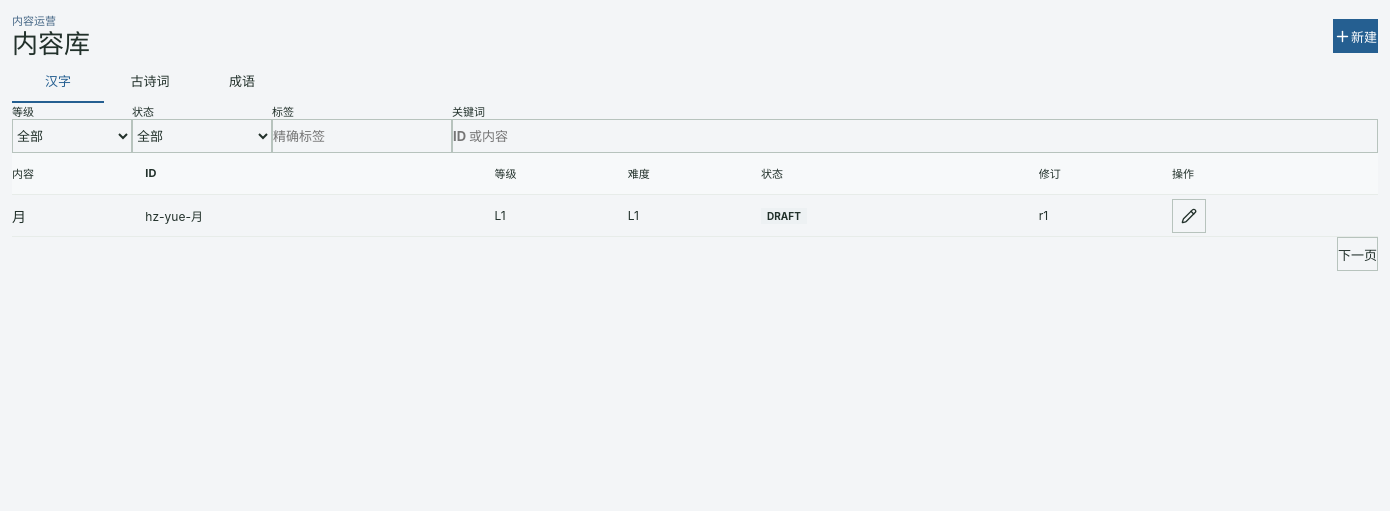
Test: ContentLibraryPage › limits editor actions to EDITOR capabilities
Expected: the text "hz-yue-月" is shown, [145,194,494,236]
Expected: the button with aria-label "新建内容" is shown, [1333,19,1378,53]
Click the button named "编辑 月". click: (1189, 216)
box: [1172,198,1206,232]
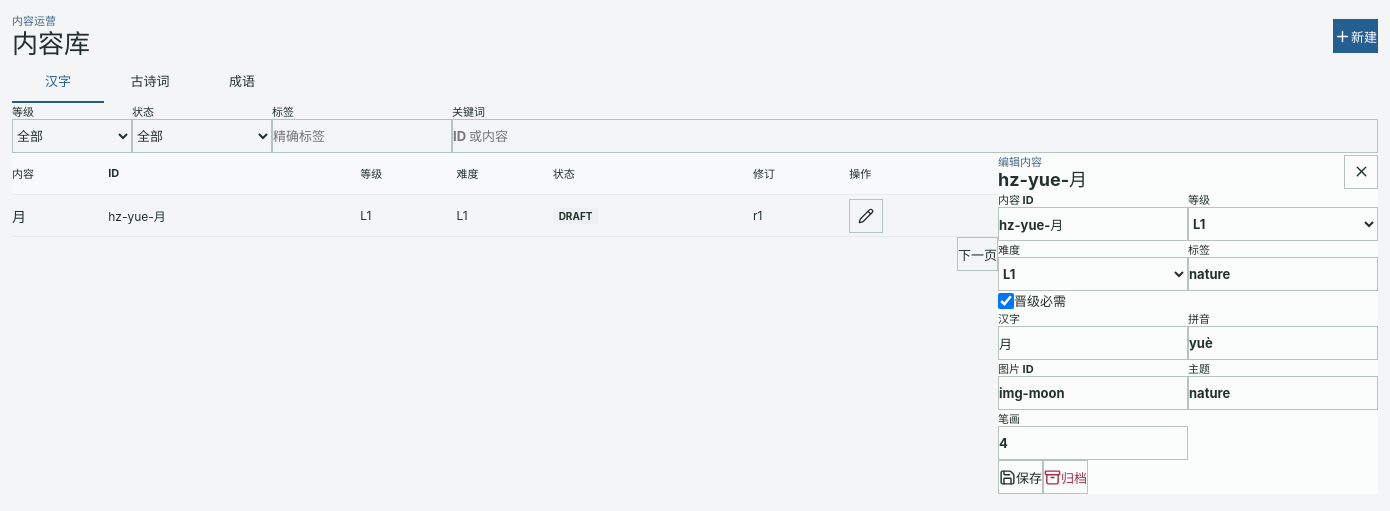
Now the button with aria-label "保存内容" is shown, box [998,460,1043,494]
Now the button with aria-label "归档内容" is shown, box [1043,460,1088,494]
